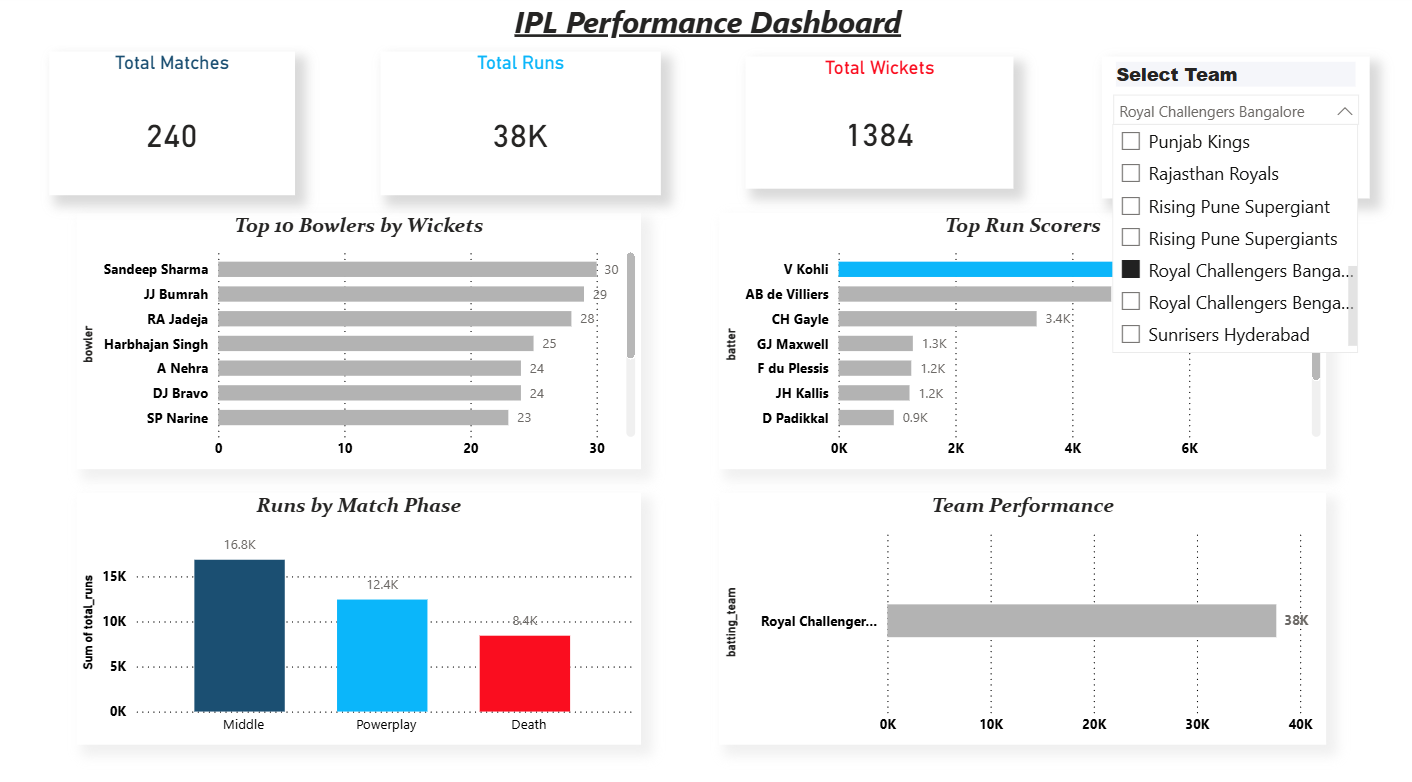

Layout of this report page (visuals, bound fields, positions):
{"tool":"powerbi","page":{"name":"IPL Dashboard1","canvas":[1280,720],"ordinal":0},"visuals":[{"type":"barChart","title":"Top 10 Bowlers by Wickets","fields":{"Category":["cleaned_ipl_data.bowler"],"Y":["Sum(cleaned_ipl_data.is_wicket)"]},"box":[71.2,197.5,508.8,231.2],"z":0},{"type":"card","title":"Total Wickets","fields":{"Values":["Sum(cleaned_ipl_data.is_wicket)"]},"box":[673.9,56.7,241.7,118.8],"z":1000},{"type":"card","title":"Total Runs","fields":{"Values":["Sum(cleaned_ipl_data.total_runs)"]},"box":[344.4,51.3,252.5,129.6],"z":2000},{"type":"card","title":"Total Matches","fields":{"Values":["Count(cleaned_ipl_data.match_id)"]},"box":[45.9,51.3,221.5,129.6],"z":3000},{"type":"barChart","title":"Top Run Scorers","fields":{"Y":["Sum(cleaned_ipl_data.total_runs)"],"Category":["cleaned_ipl_data.batter"]},"box":[650,197.5,547.5,231.2],"z":4000},{"type":"columnChart","title":"Runs by Match Phase","fields":{"Category":["cleaned_ipl_data.phase"],"Y":["Sum(cleaned_ipl_data.total_runs)"]},"box":[71.2,450,508.8,227.5],"z":5000},{"type":"clusteredBarChart","title":"Team Performance ","fields":{"Category":["cleaned_ipl_data.batting_team"],"Y":["Sum(cleaned_ipl_data.total_runs)"]},"box":[650,450,547.5,227.5],"z":6000},{"type":"textbox","box":[0,1.2,1280,45],"z":7000},{"type":"slicer","fields":{"Values":["cleaned_ipl_data.batting_team"]},"box":[995.3,56.7,241.7,128.3],"z":8000}]}

Visuals, with their boxes in screenshot pixels (x1, y1, x2, y2), scaled from the page's 1280x720 canvas onto the 1412x782 screenshot:
"Top 10 Bowlers by Wickets" barChart: BBox(79, 215, 640, 466)
"Total Wickets" card: BBox(743, 62, 1010, 191)
"Total Runs" card: BBox(380, 56, 658, 196)
"Total Matches" card: BBox(51, 56, 295, 196)
"Top Run Scorers" barChart: BBox(717, 215, 1321, 466)
"Runs by Match Phase" columnChart: BBox(79, 489, 640, 736)
"Team Performance " clusteredBarChart: BBox(717, 489, 1321, 736)
textbox: BBox(0, 1, 1411, 50)
slicer - cleaned_ipl_data.batting_team: BBox(1098, 62, 1365, 201)
